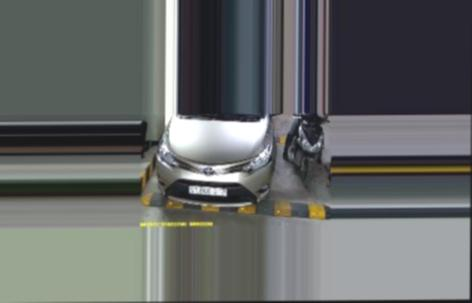License_Plate: (187, 184, 227, 195)
